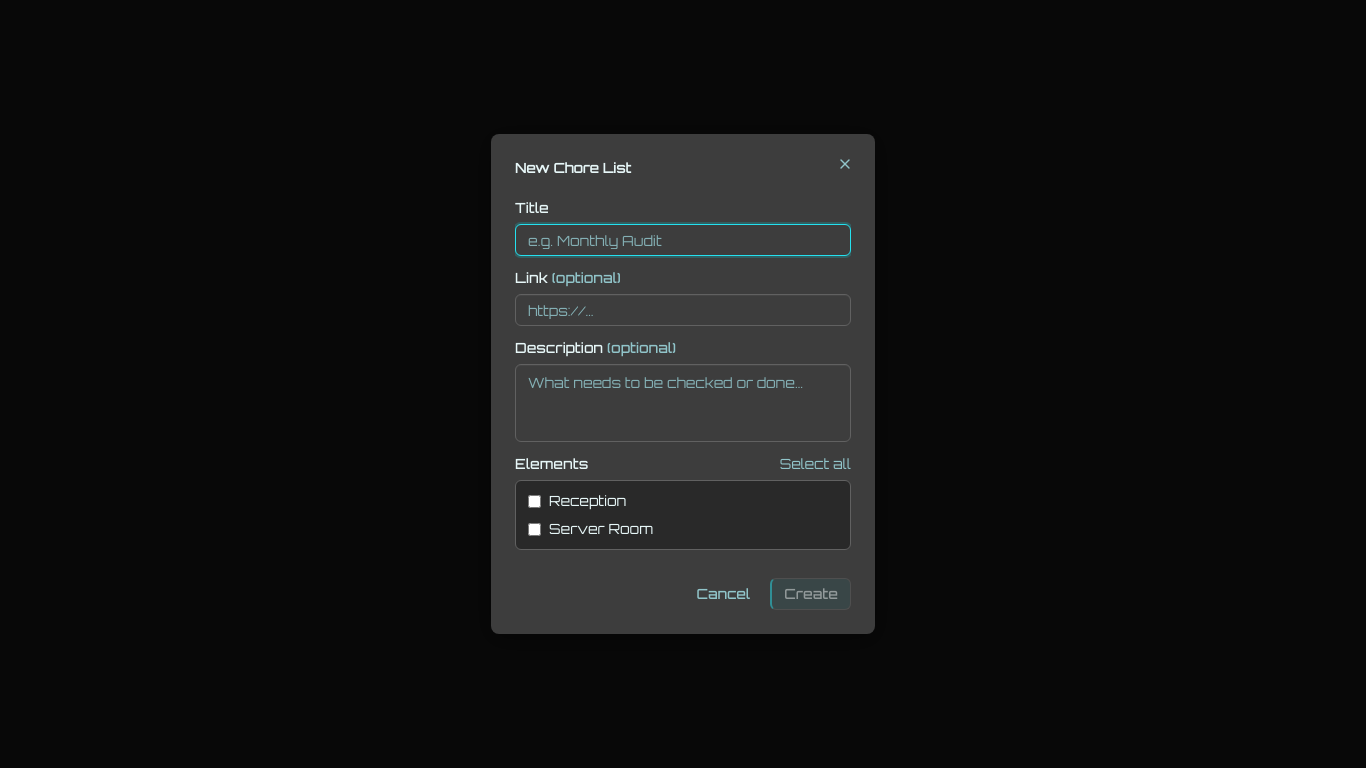
CreateChoreListDialog – landmark selection › selects all landmarks when "Select all" is clicked
Step 1. Click the button "Select all" → click(815, 464), box [780,454,851,474]
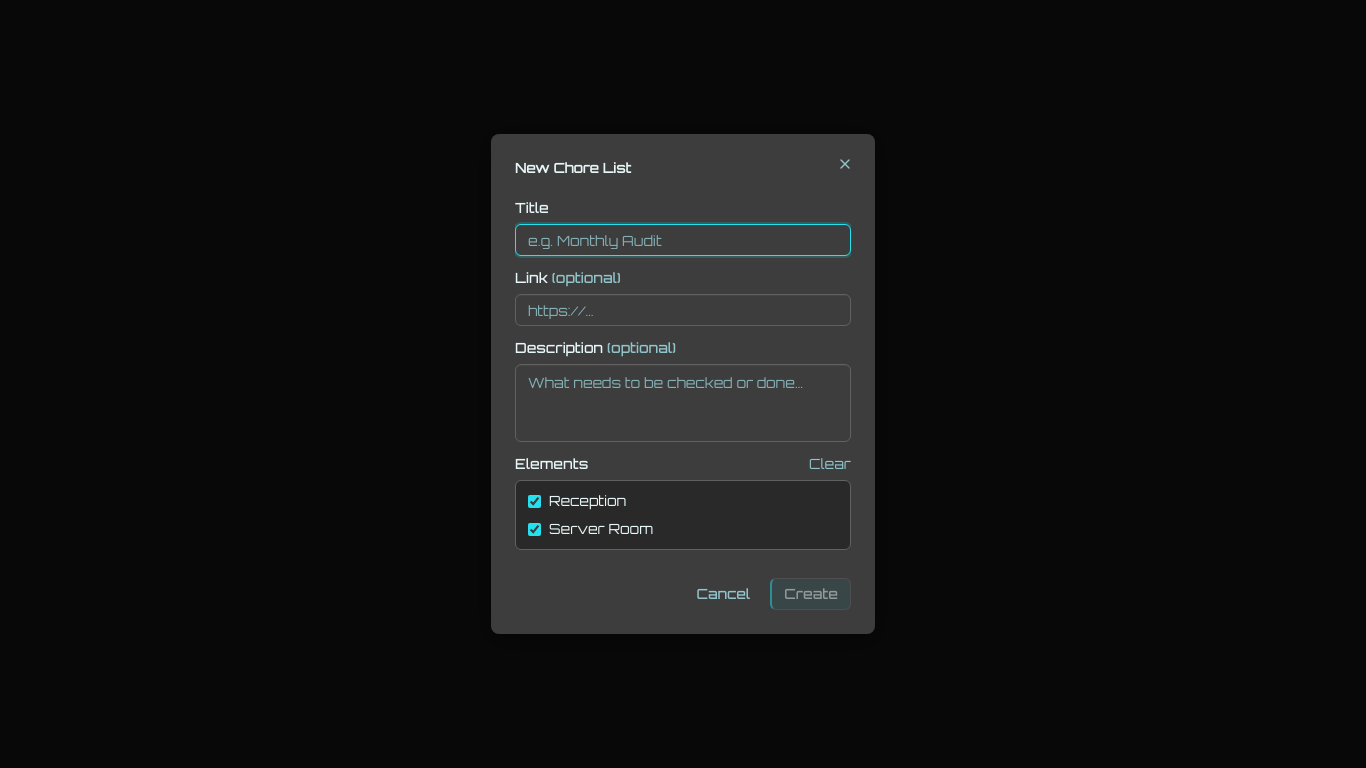
Check: the button "Clear" is shown, box [809,454,851,474]
